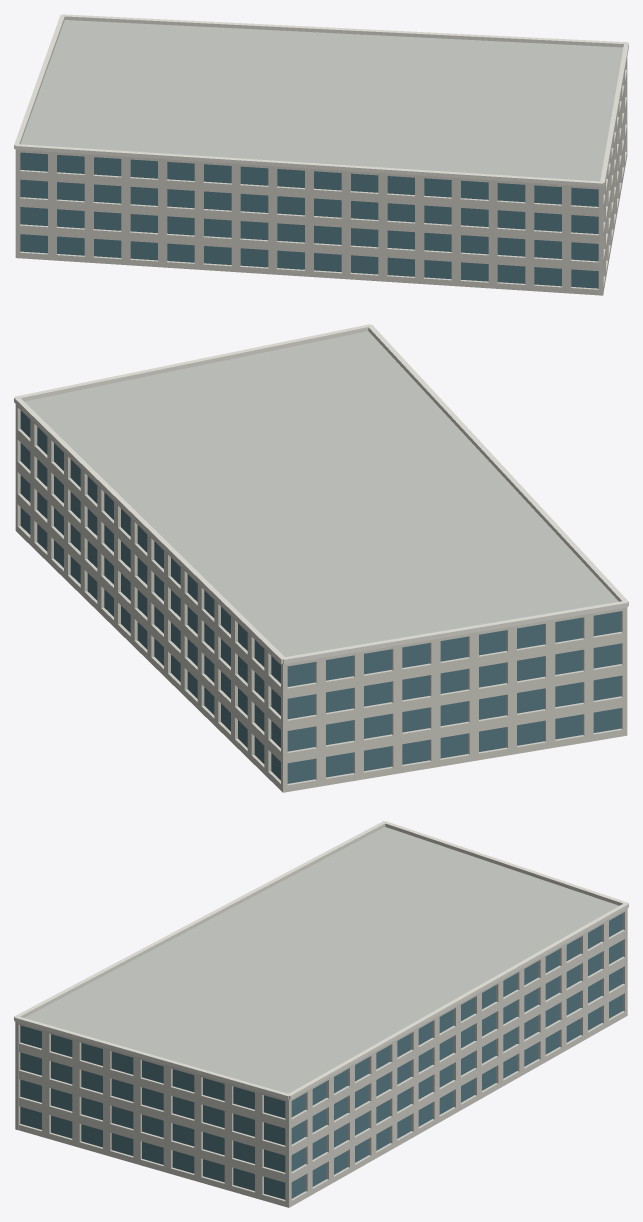
Rendered from sb_1556523920.far.glb.
3 views of the same model, one above another, from view 1: azimuth 30°, elevation 25°; view 2: azimuth 150°, elevation 25°; view 3: azimuth 270°, elevation 25° (orthographic). The views are drawn at different scales.
Parts seen in each view (by area): view 1: roof, wall, glass, trim; view 2: roof, wall, glass, trim; view 3: roof, wall, glass, trim.
Part boxes in pixels (x1=…): roof: x1=20, y1=20, x2=623, y2=181; wall: x1=15, y1=57, x2=627, y2=295; glass: x1=20, y1=152, x2=598, y2=288; trim: x1=14, y1=14, x2=628, y2=187; roof: x1=24, y1=331, x2=618, y2=656; wall: x1=15, y1=404, x2=627, y2=792; glass: x1=20, y1=410, x2=621, y2=783; trim: x1=14, y1=324, x2=628, y2=664; roof: x1=24, y1=827, x2=619, y2=1093; wall: x1=15, y1=908, x2=627, y2=1207; glass: x1=20, y1=913, x2=622, y2=1199; trim: x1=14, y1=821, x2=628, y2=1099.
Size of the model in its own units: 68.53 by 13.04 by 64.72.
